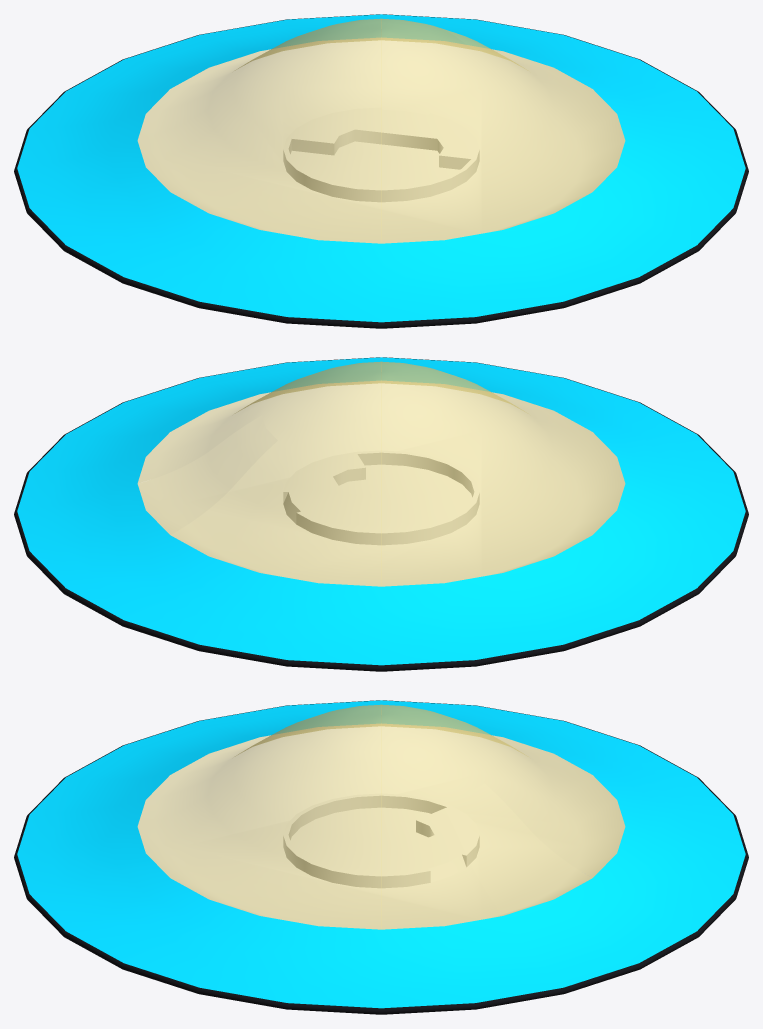
File: UFO.gltf
3 renders of one model, top to bottom at view 1: azimuth 30°, elevation 25°; view 2: azimuth 150°, elevation 25°; view 3: azimuth 270°, elevation 25°, orthographic.
Parts seen in each view (by area): view 1: ufo; view 2: ufo; view 3: ufo.
Boxes of the visible parts, bbox=[...] form: ufo: bbox=[14, 14, 748, 328]; ufo: bbox=[14, 357, 748, 671]; ufo: bbox=[14, 700, 748, 1014].
Size of what is drawn, in the model's own units: 6.26 by 1.86 by 6.26.
